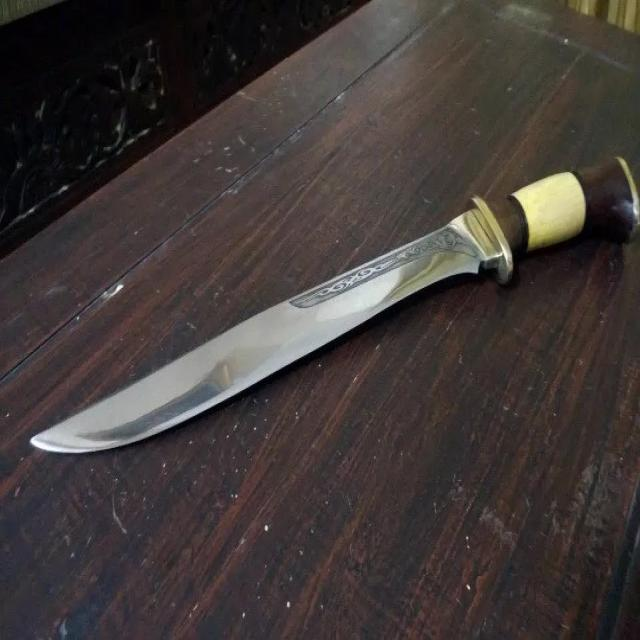Pisau: (22, 141, 640, 476)
